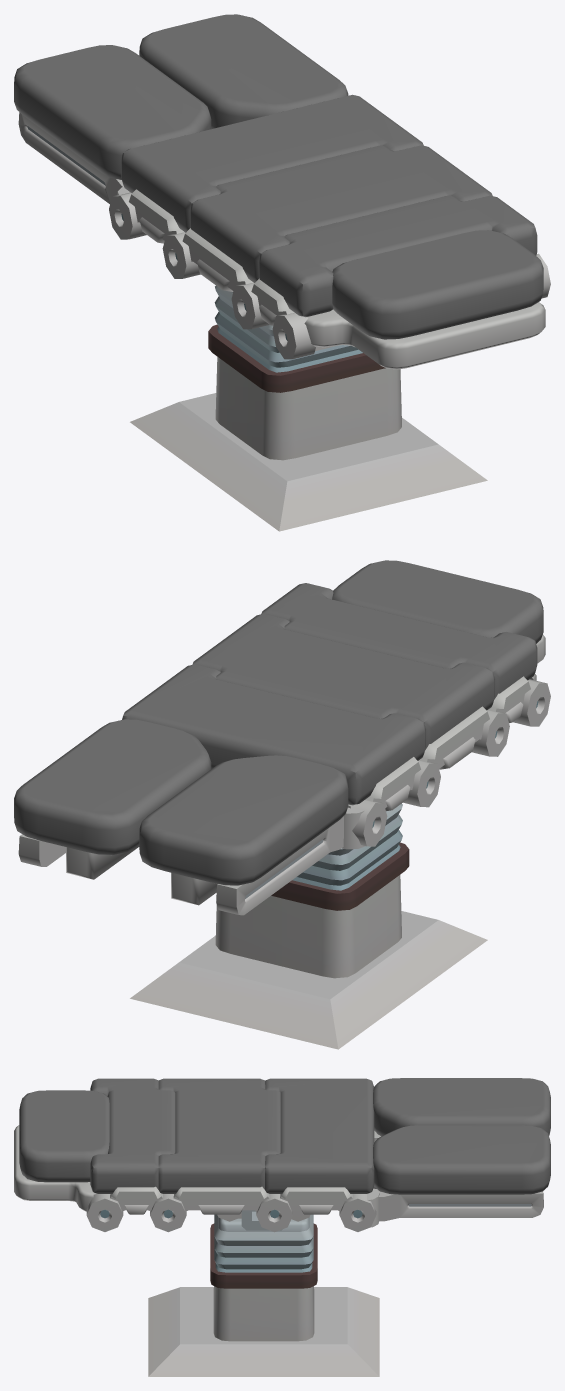
Rendered from Pfb_JLAB_Surgical_Table.fbx.
The picture shows the model from 3 angles, top to bottom: view 1: azimuth 30°, elevation 25°; view 2: azimuth 150°, elevation 25°; view 3: azimuth 270°, elevation 25°; orthographic projection. The views are drawn at different scales.
Visible parts, largest first — view 1: Mat_Tile_Color_01 1, Color 1; view 2: Mat_Tile_Color_01 1, Color 1; view 3: Mat_Tile_Color_01 1, Color 1.
Boxes of the visible parts, x1,y1,x2,y2 form: Mat_Tile_Color_01 1: [14, 14, 543, 339]; Color 1: [18, 112, 550, 531]; Mat_Tile_Color_01 1: [14, 560, 543, 885]; Color 1: [18, 634, 550, 1049]; Mat_Tile_Color_01 1: [19, 1078, 550, 1194]; Color 1: [14, 1125, 543, 1376].
Bounding box in the file's own units: 0.9366 × 0.9757 × 2.19.
Materials: 2 (2 with a texture image).
